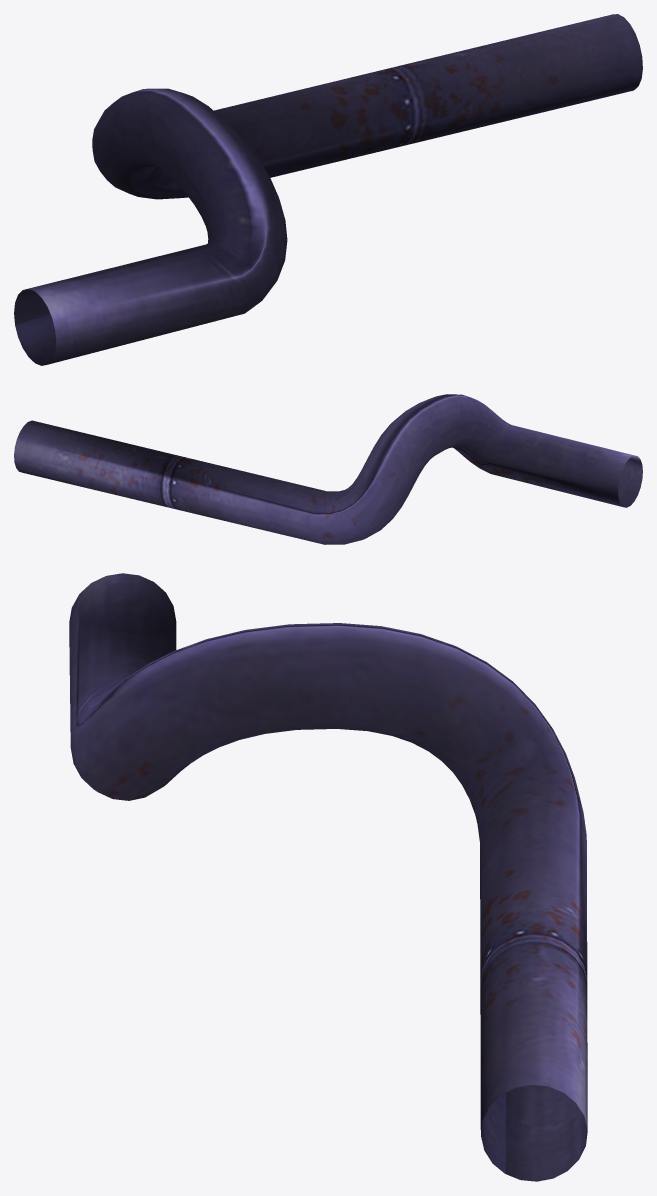
File: Tuyau_4.FBX
The picture shows the model from 3 angles, top to bottom: view 1: azimuth 30°, elevation 25°; view 2: azimuth 150°, elevation 25°; view 3: azimuth 270°, elevation 25°; orthographic projection. The views are drawn at different scales.
Parts seen in each view (by area): view 1: Tubes_quatre; view 2: Tubes_quatre; view 3: Tubes_quatre.
Part boxes in pixels (left/top/right/bottom): Tubes_quatre: left=14, top=14, right=642, bottom=365; Tubes_quatre: left=14, top=394, right=642, bottom=544; Tubes_quatre: left=69, top=573, right=587, bottom=1181.
Bounding box in the file's own units: 498 × 104 × 223.
